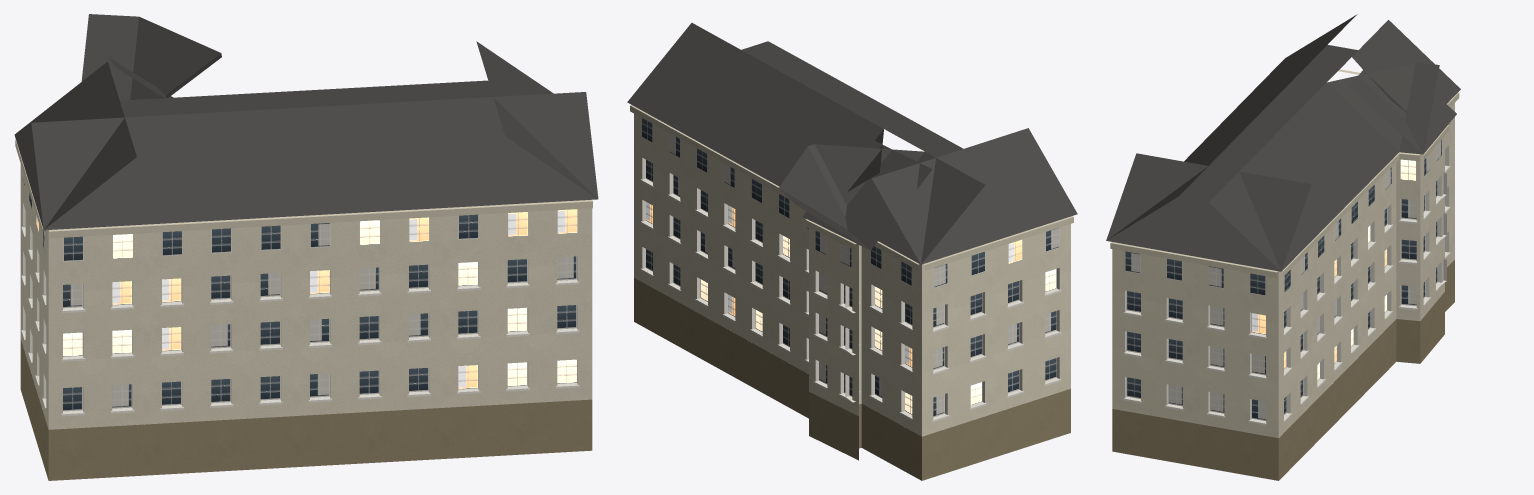
Rendered from z3b_bhof_main.glb.
3 views of the same model, side by side, from view 1: azimuth 30°, elevation 25°; view 2: azimuth 150°, elevation 25°; view 3: azimuth 270°, elevation 25° (orthographic). The views are drawn at different scales.
Parts seen in each view (by area): view 1: z3b_bhof_main; view 2: z3b_bhof_main; view 3: z3b_bhof_main.
Part boxes in pixels (x1=…): z3b_bhof_main: x1=14, y1=14, x2=598, y2=480; z3b_bhof_main: x1=627, y1=23, x2=1077, y2=480; z3b_bhof_main: x1=1106, y1=14, x2=1460, y2=480.
Size of the model in its own units: 32.15 by 18.86 by 26.32.
Materials: 3 (3 with a texture image).
